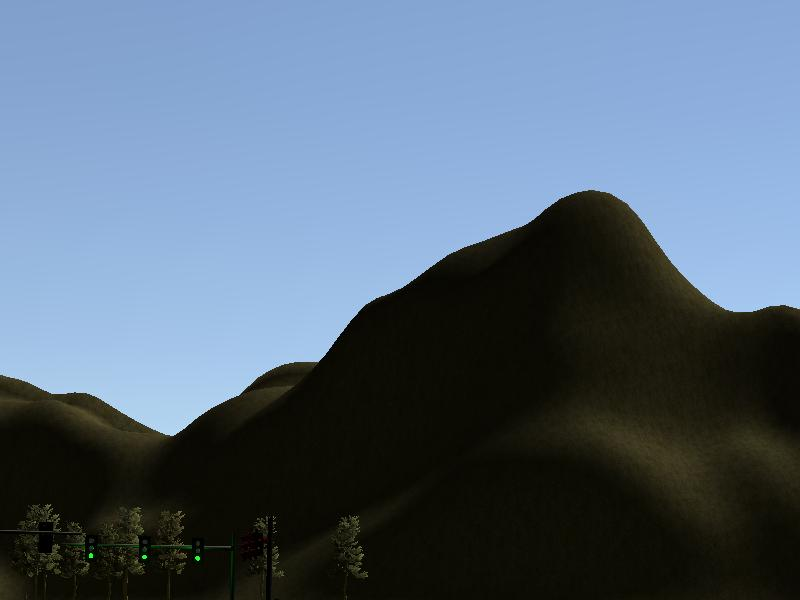Green: (191, 532, 204, 564), (85, 533, 97, 563), (139, 534, 150, 563)
